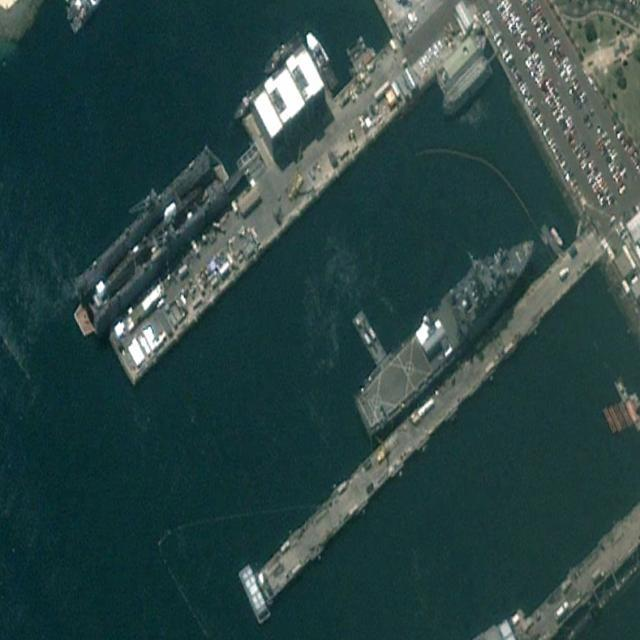Landing: (349, 214, 549, 442)
